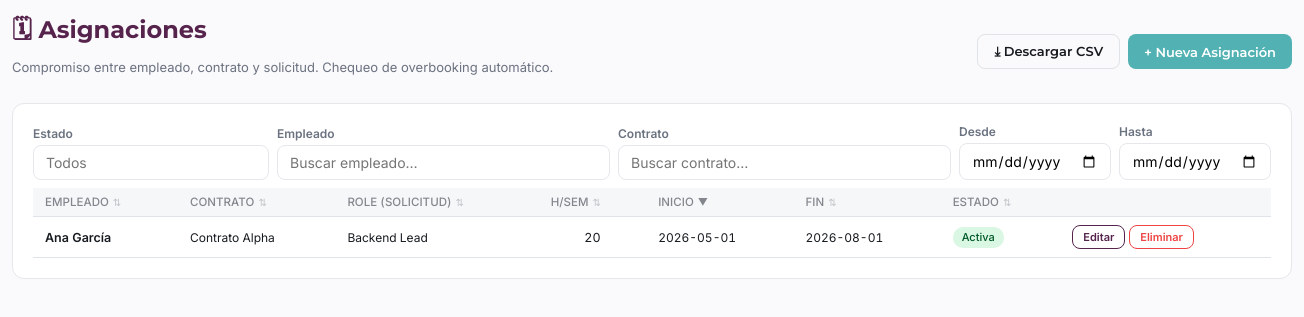
Test: Assignments module › SPEC-007: selected employee renders as a removable chip
The image size is (1304, 317).
Expected: the text "Ana García" is shown, [33,216,178,258]
Focus the field named "Filtro por empleado": [444, 162] box [277,145,610,180]
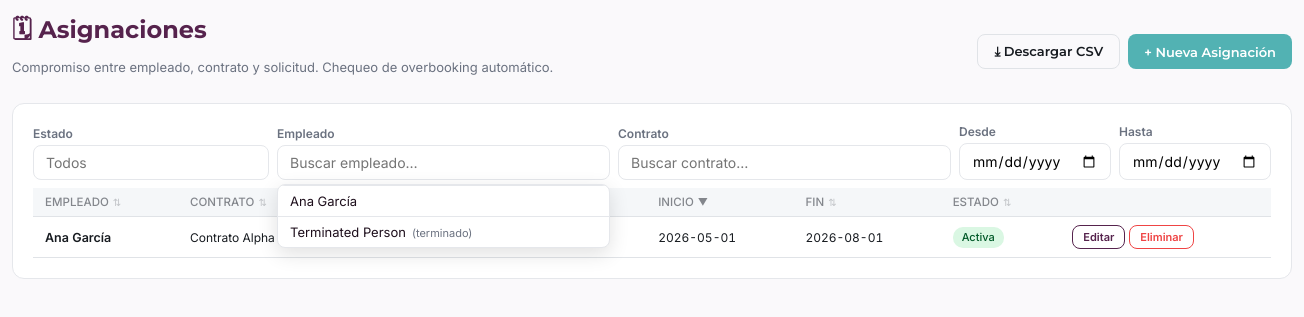
Press the mouse on the option "Ana García": [337, 201] box [278,185,609,216]
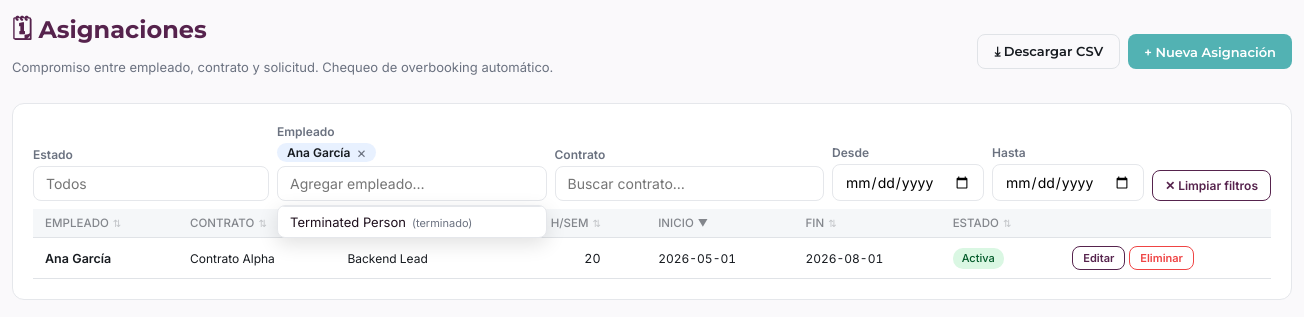
Expected: the button named "Quitar Ana García" is shown, [354,145,368,160]
